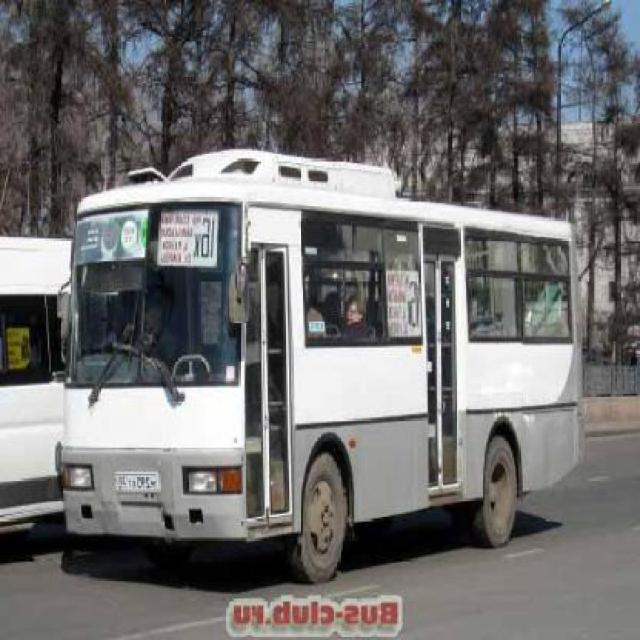bus: (57, 149, 574, 580)
